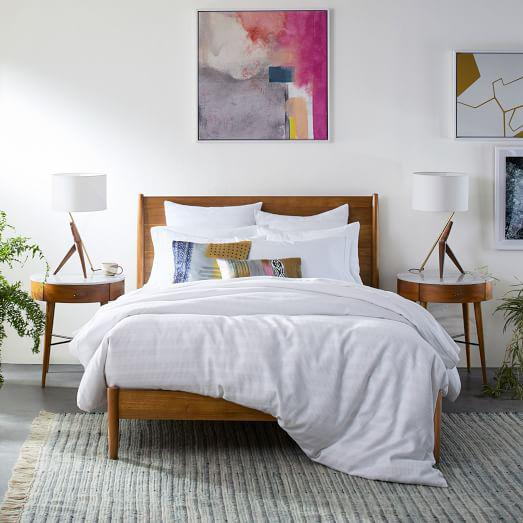bed: (66, 178, 468, 498)
